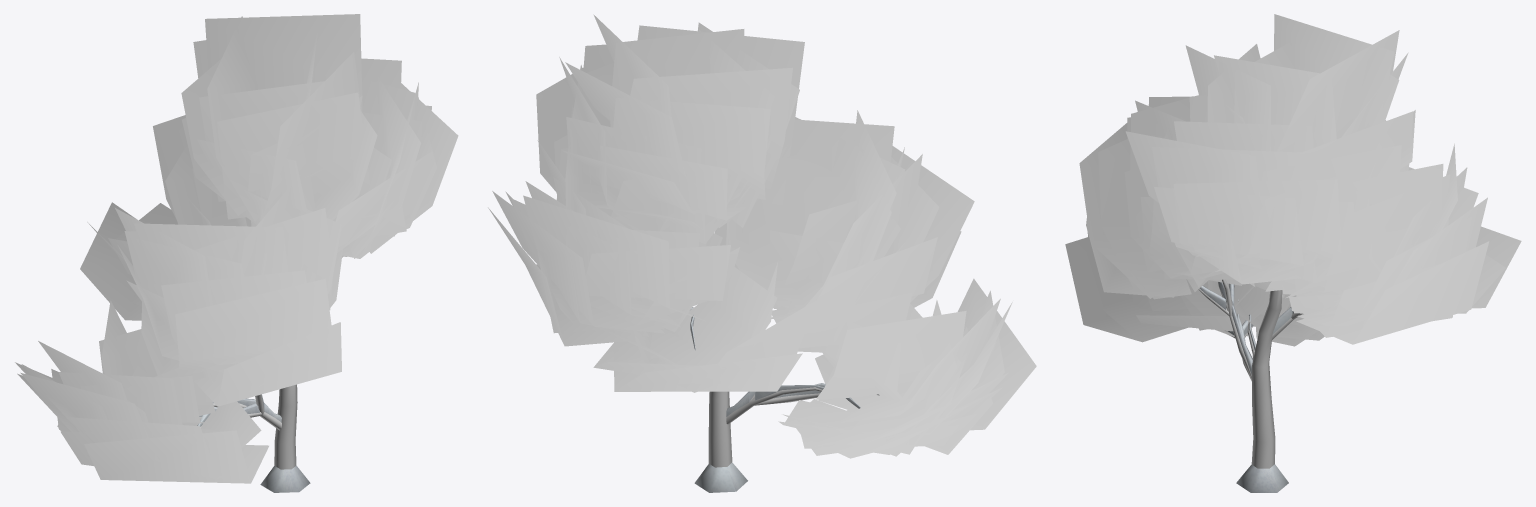
File: Tree_Small_7_Snow.fbx
3 renders of one model, left to right at view 1: azimuth 30°, elevation 25°; view 2: azimuth 150°, elevation 25°; view 3: azimuth 270°, elevation 25°, orthographic. The views are drawn at different scales.
Visible parts, largest first — view 1: Tree_Small_7_Snow_LOD0; view 2: Tree_Small_7_Snow_LOD0; view 3: Tree_Small_7_Snow_LOD0.
Boxes of the visible parts, <box> form: Tree_Small_7_Snow_LOD0: <box>15,14,458,492</box>; Tree_Small_7_Snow_LOD0: <box>488,14,1036,492</box>; Tree_Small_7_Snow_LOD0: <box>1065,14,1521,492</box>.
Size of what is drawn, in the model's own units: 1043 by 1039 by 945.
